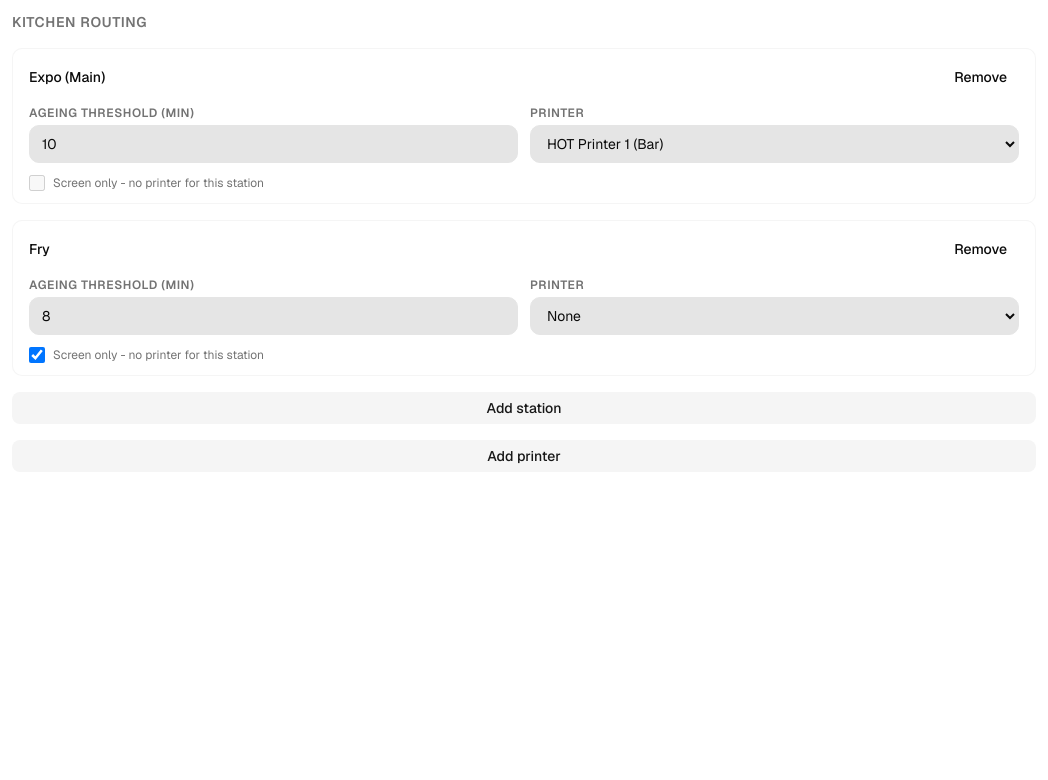
Test: StationsPanel › Add station › toasts and keeps the form open when the create request fails
Click the button with test id "stations-add-station-button" at [524, 408], box [12, 392, 1036, 424]
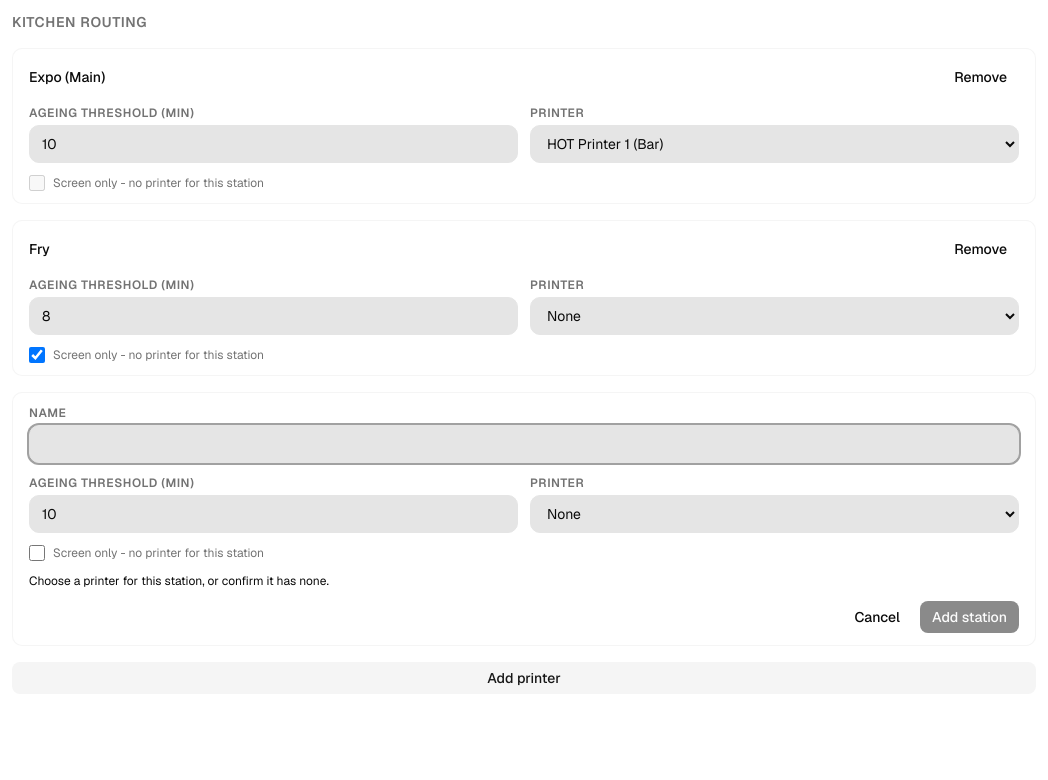
Type "Bar" into the field with test id "add-station-name" at [524, 444], box [29, 425, 1019, 463]
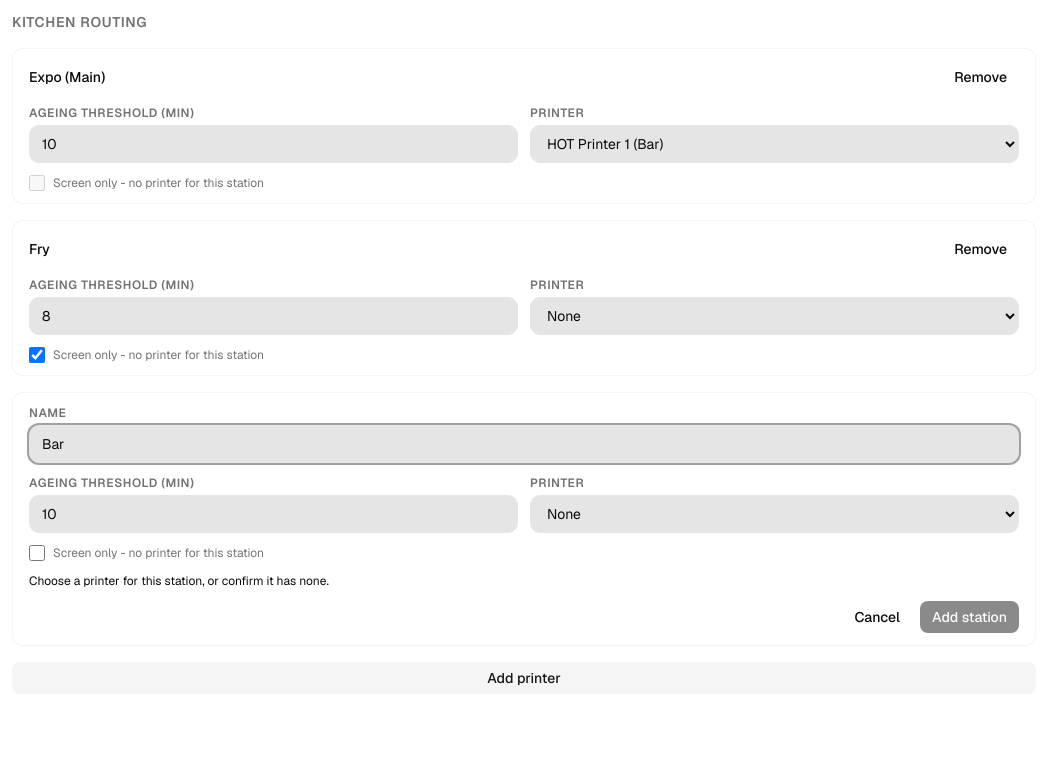
Click the checkbox with test id "add-station-no-printer-ack" at [37, 553], box [29, 545, 45, 561]
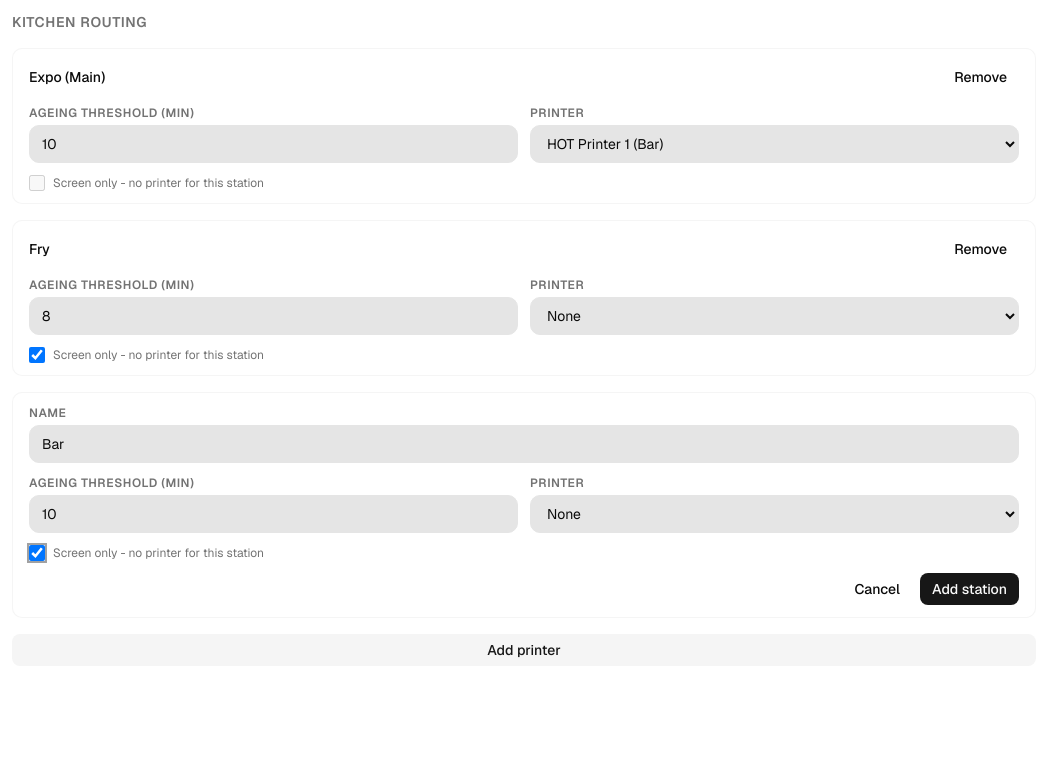
Click the button with test id "stations-add-station-submit" at [970, 589], box [920, 573, 1019, 605]
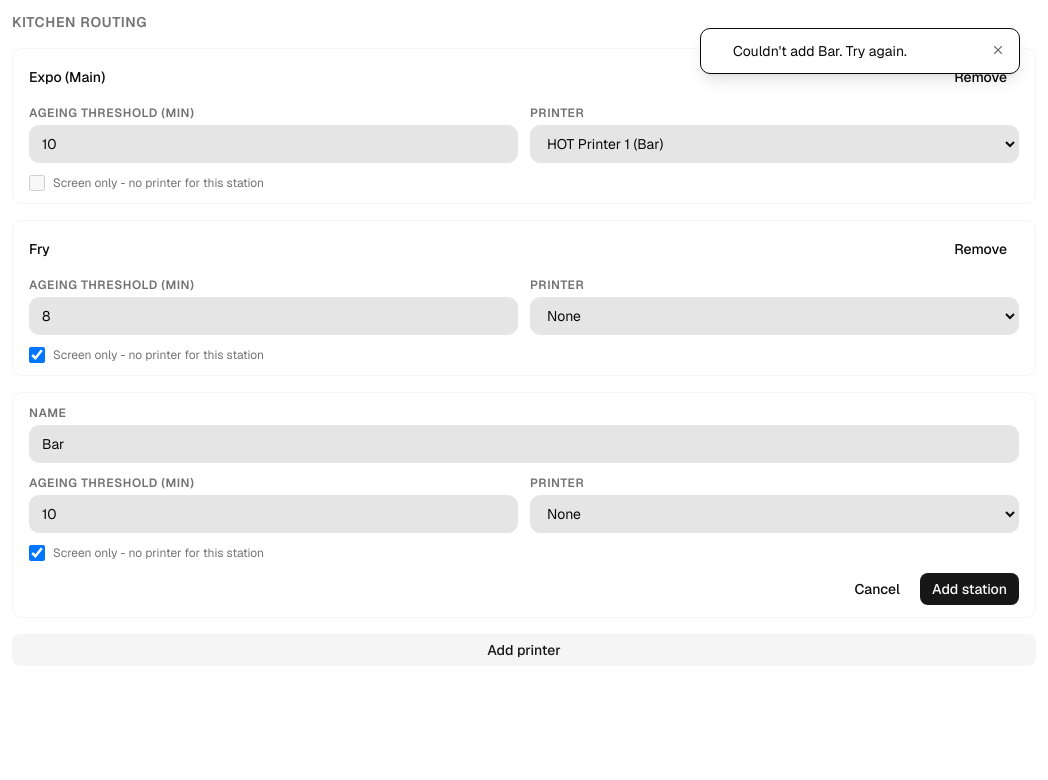
Expected: the element with test id "toast-error" is shown, [700, 28, 1020, 74]
